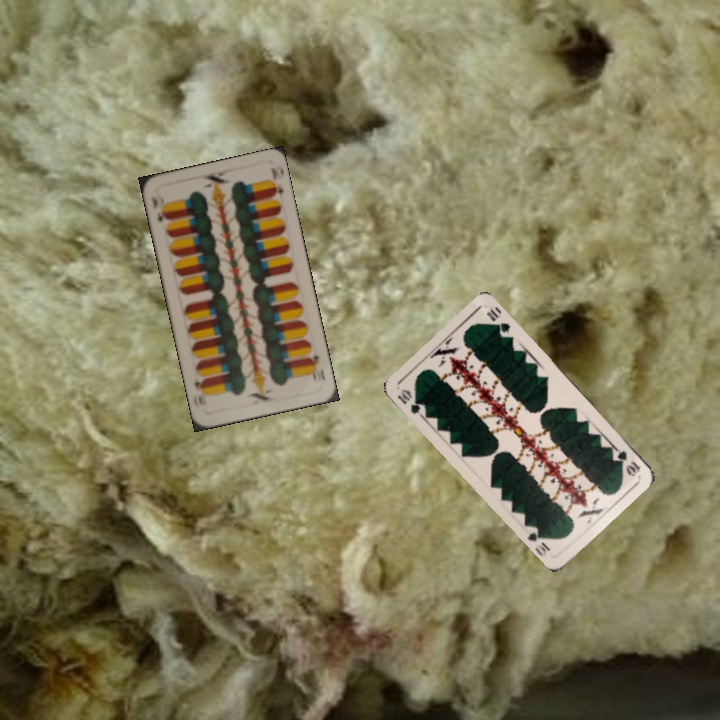E10: (305, 352, 328, 384), (148, 192, 171, 224)
G10: (393, 385, 429, 420), (608, 443, 643, 478)
